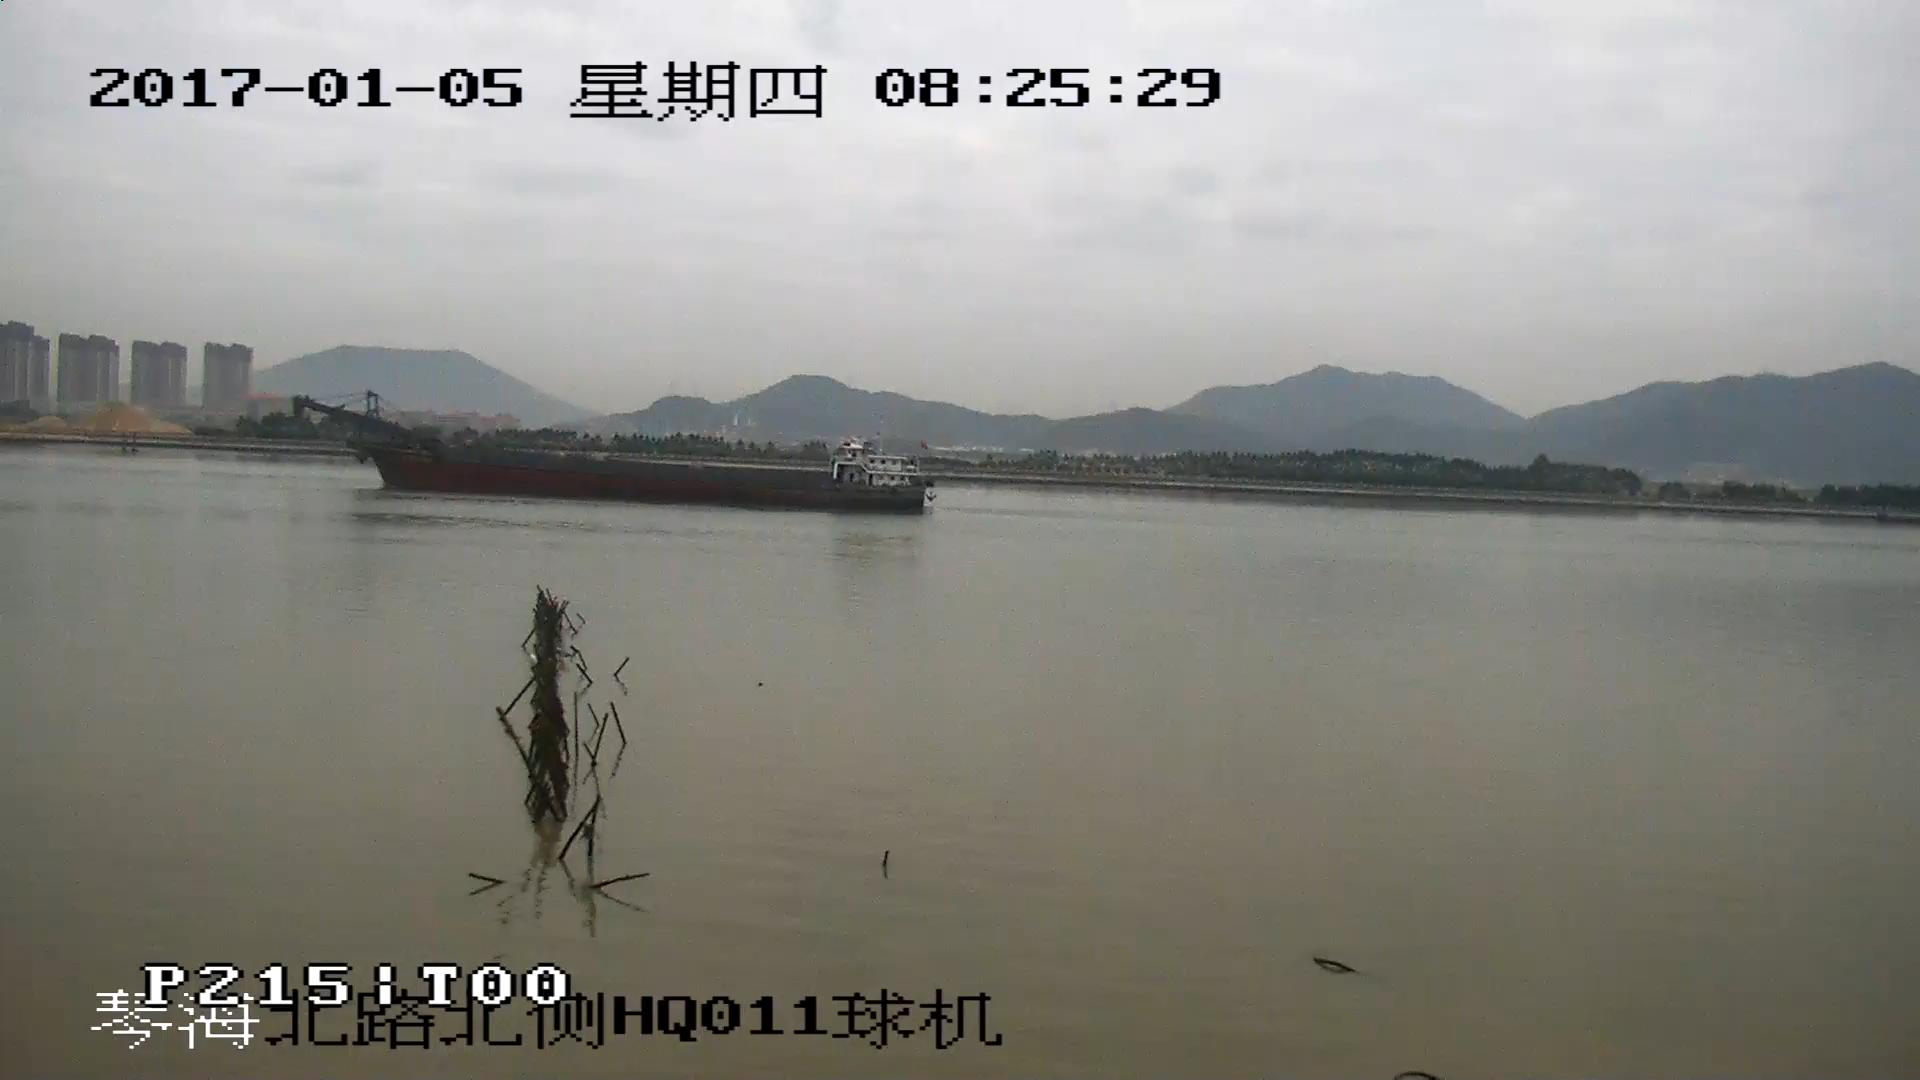bulk cargo carrier: (290, 391, 934, 513)
